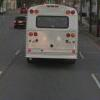Bus: (21, 2, 85, 67)
